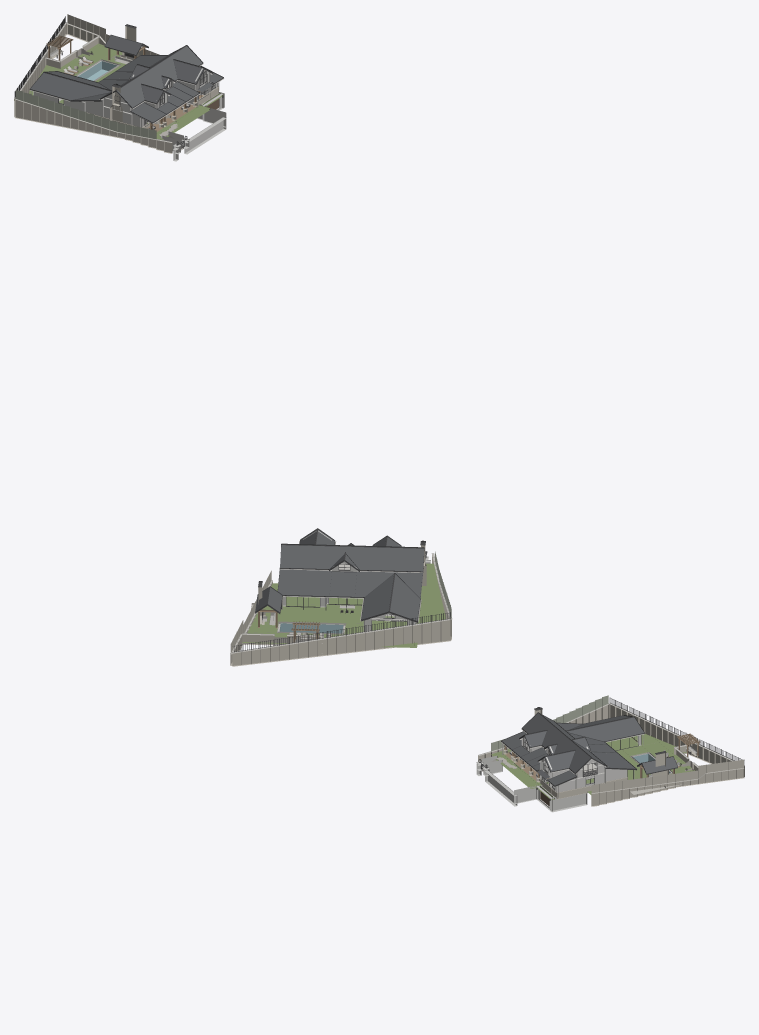
Rendered from house_massing.glb.
3 renders of one model, top to bottom at view 1: azimuth 30°, elevation 25°; view 2: azimuth 150°, elevation 25°; view 3: azimuth 270°, elevation 25°, orthographic. The views are drawn at different scales.
Visible parts, largest first — view 1: geometry_0; view 2: geometry_0; view 3: geometry_0.
Part boxes in pixels (box(x1,y1,x2,y2)): geometry_0: box(14, 14, 226, 161); geometry_0: box(230, 528, 452, 666); geometry_0: box(476, 695, 744, 812).
Size of the model in its own units: 124 by 19.19 by 139.
